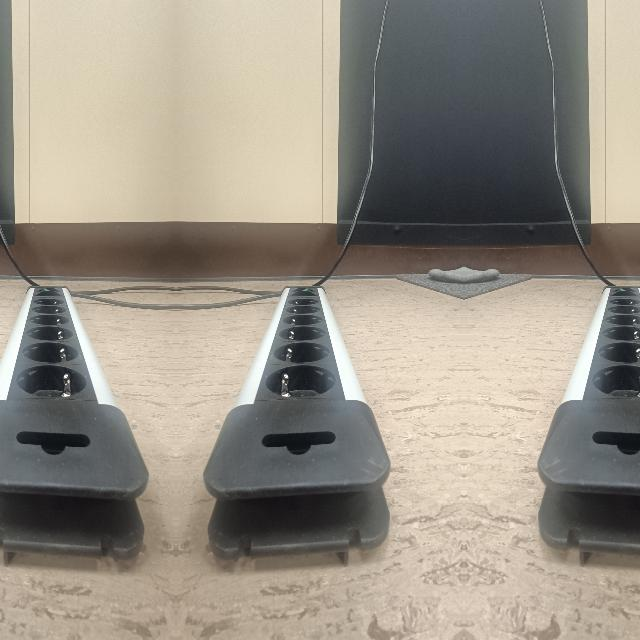obstacle: (205, 288, 395, 552), (0, 288, 145, 552), (532, 288, 640, 552)
